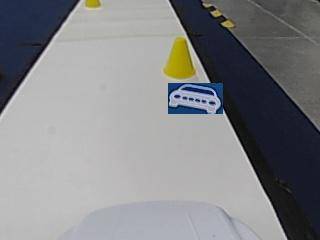cone: (163, 39, 196, 78)
